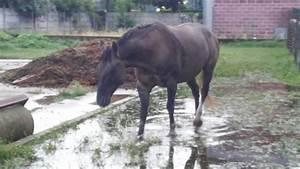horse: (94, 20, 220, 140)
